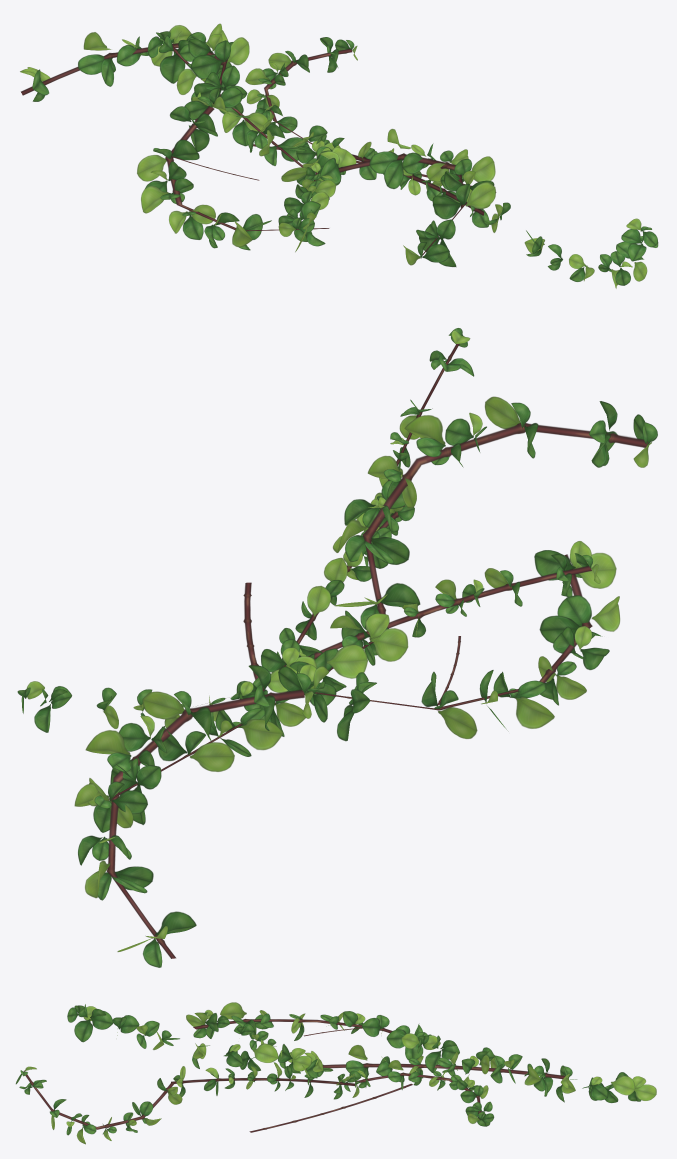
The model's file is leaves.glb.
The picture shows the model from 3 angles, top to bottom: view 1: azimuth 30°, elevation 25°; view 2: azimuth 150°, elevation 25°; view 3: azimuth 270°, elevation 25°; orthographic projection. The views are drawn at different scales.
Parts seen in each view (by area): view 1: Plant02; view 2: Plant02; view 3: Plant02.
Boxes of the visible parts, x1,y1,x2,y2 form: Plant02: (20,23,658,288); Plant02: (17,328,657,967); Plant02: (16,1002,656,1144).
Bounding box in the file's own units: 0.376 × 0.1843 × 0.9016.
1 material, 1 textured.
